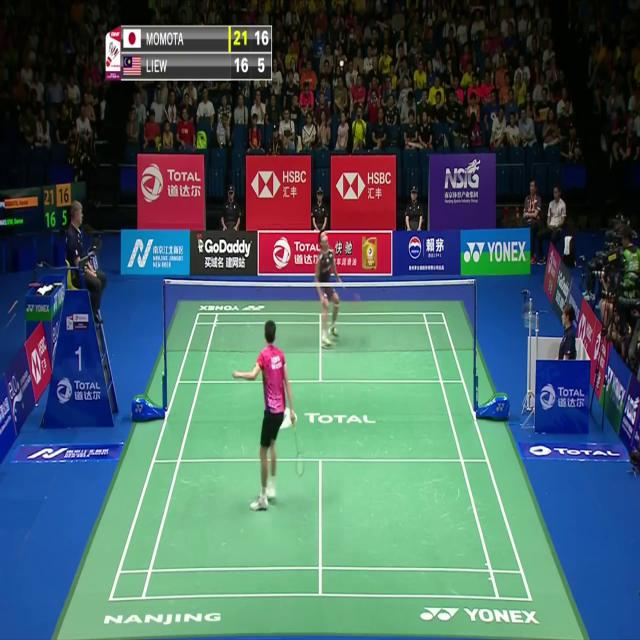Shuttlecock: (338, 57, 345, 69)
